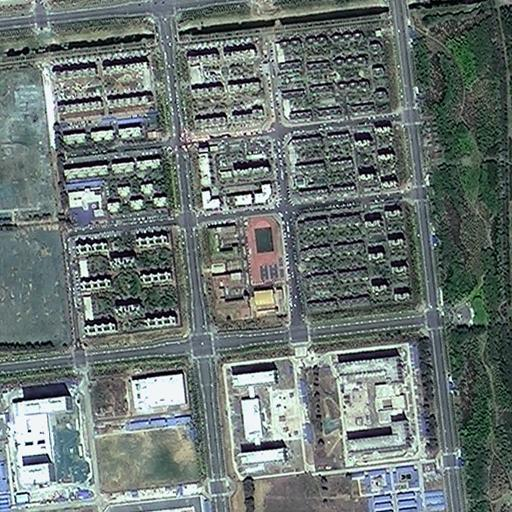school: (201, 211, 294, 331)
